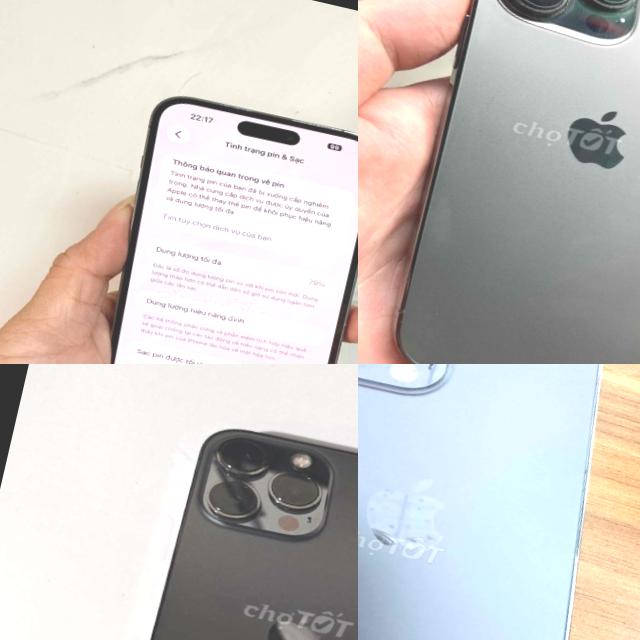gen_12_13: (378, 0, 640, 364), (80, 407, 358, 640)
gen_14: (73, 85, 358, 364), (358, 364, 640, 640)
scratch: (358, 451, 466, 581)
